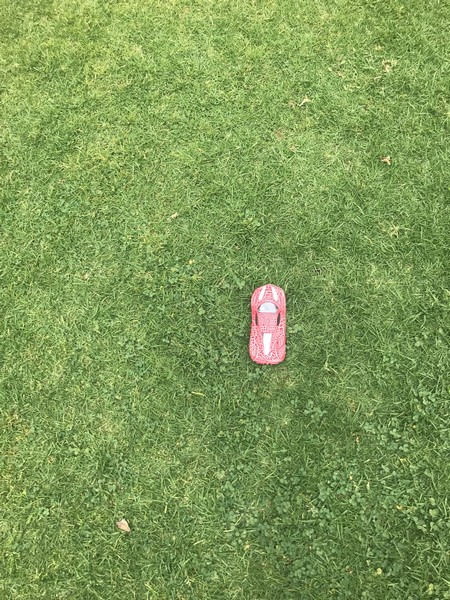RC: (245, 283, 291, 368)
